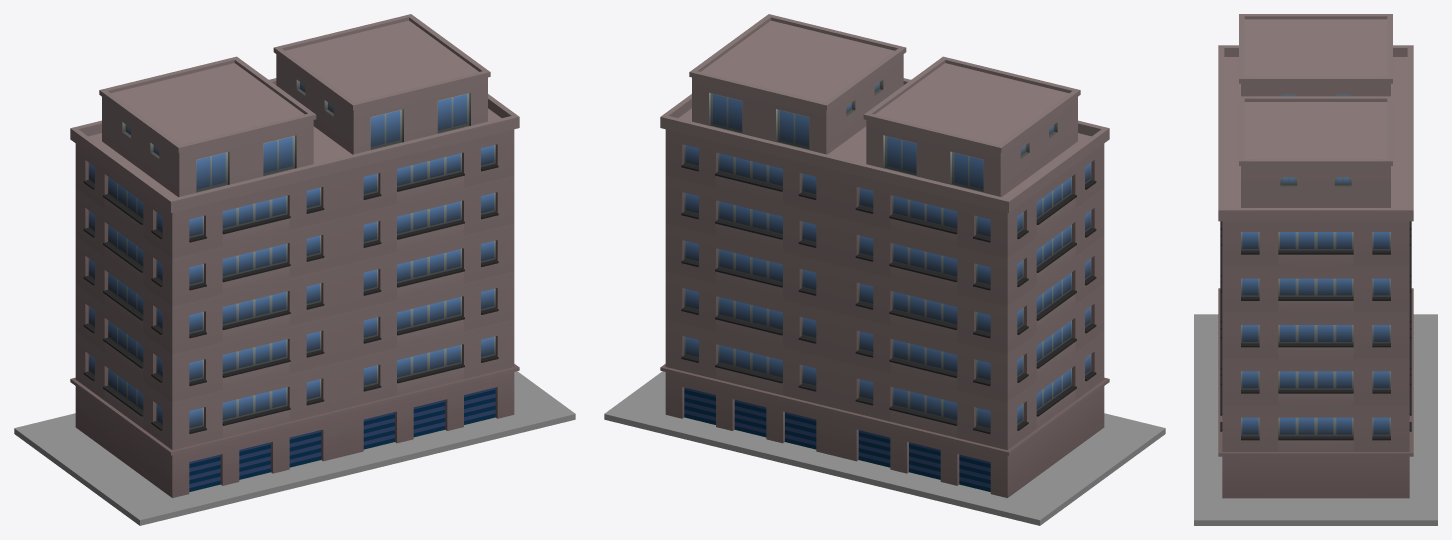
The model's file is cbgt_free_v0.4.0_house_building_09a_v1.0.0.glb.
3 views of the same model, side by side, from view 1: azimuth 30°, elevation 25°; view 2: azimuth 150°, elevation 25°; view 3: azimuth 270°, elevation 25° (orthographic). The views are drawn at different scales.
Parts seen in each view (by area): view 1: cbgt_free_v0.4.0_house_building_09a_v1.0.0, cbgt_free_v0.4.0_ground_pavement_4x2__v1.0.0; view 2: cbgt_free_v0.4.0_house_building_09a_v1.0.0, cbgt_free_v0.4.0_ground_pavement_4x2__v1.0.0; view 3: cbgt_free_v0.4.0_house_building_09a_v1.0.0, cbgt_free_v0.4.0_ground_pavement_4x2__v1.0.0.
Boxes of the visible parts, left/top/right/bottom form: cbgt_free_v0.4.0_house_building_09a_v1.0.0: left=70, top=14, right=519, bottom=497; cbgt_free_v0.4.0_ground_pavement_4x2__v1.0.0: left=14, top=371, right=575, bottom=525; cbgt_free_v0.4.0_house_building_09a_v1.0.0: left=660, top=14, right=1109, bottom=497; cbgt_free_v0.4.0_ground_pavement_4x2__v1.0.0: left=604, top=371, right=1165, bottom=525; cbgt_free_v0.4.0_house_building_09a_v1.0.0: left=1218, top=14, right=1413, bottom=498; cbgt_free_v0.4.0_ground_pavement_4x2__v1.0.0: left=1194, top=314, right=1437, bottom=525.
Bounding box in the file's own units: 40 × 30.32 × 20.
1 material, 1 textured.
